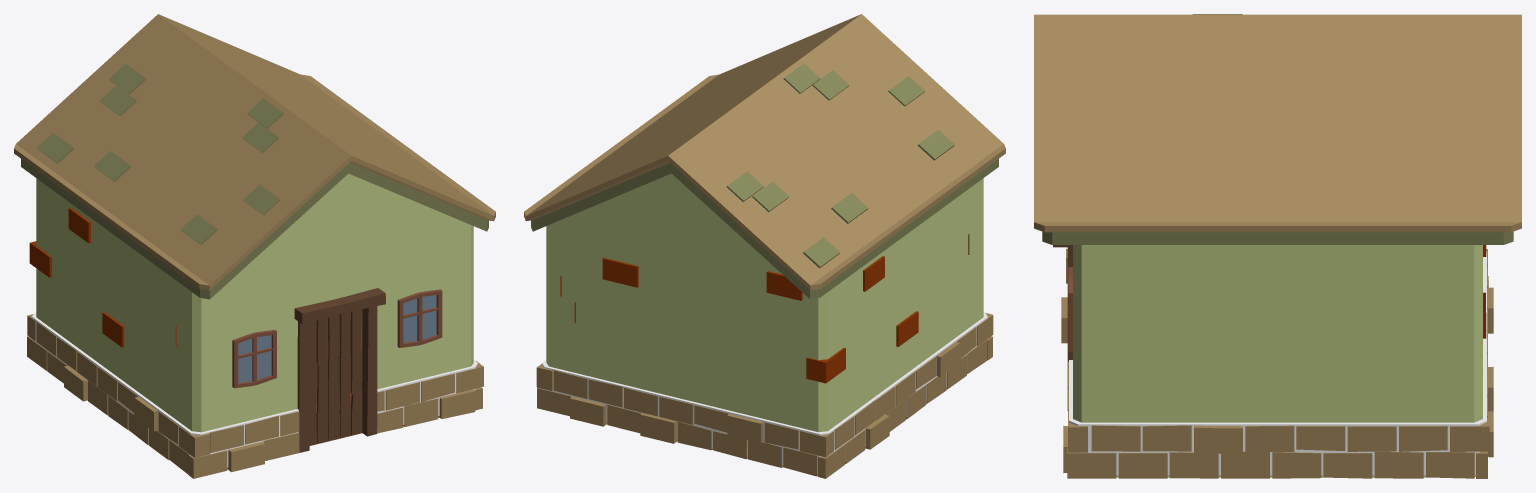
File: enkucuk.fbx
The picture shows the model from 3 angles, left to right: view 1: azimuth 30°, elevation 25°; view 2: azimuth 150°, elevation 25°; view 3: azimuth 270°, elevation 25°; orthographic projection. The views are drawn at different scales.
Visible parts, largest first — view 1: 1Story_GableRoof_Mat; view 2: 1Story_GableRoof_Mat; view 3: 1Story_GableRoof_Mat.
Part boxes in pixels (x1,y1,x2,y2): 1Story_GableRoof_Mat: [14, 14, 495, 478]; 1Story_GableRoof_Mat: [524, 14, 1005, 478]; 1Story_GableRoof_Mat: [1034, 14, 1521, 478].
Bounding box in the file's own units: 211 × 202 × 238.
